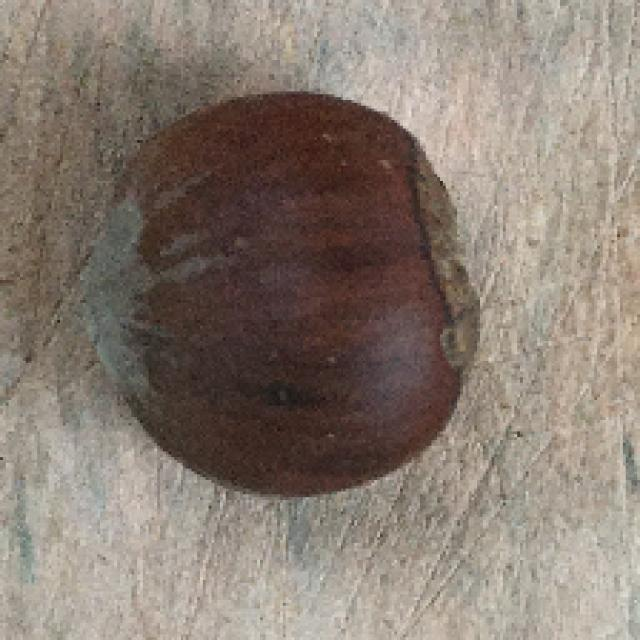qualityHazelnut: (79, 88, 475, 494)
